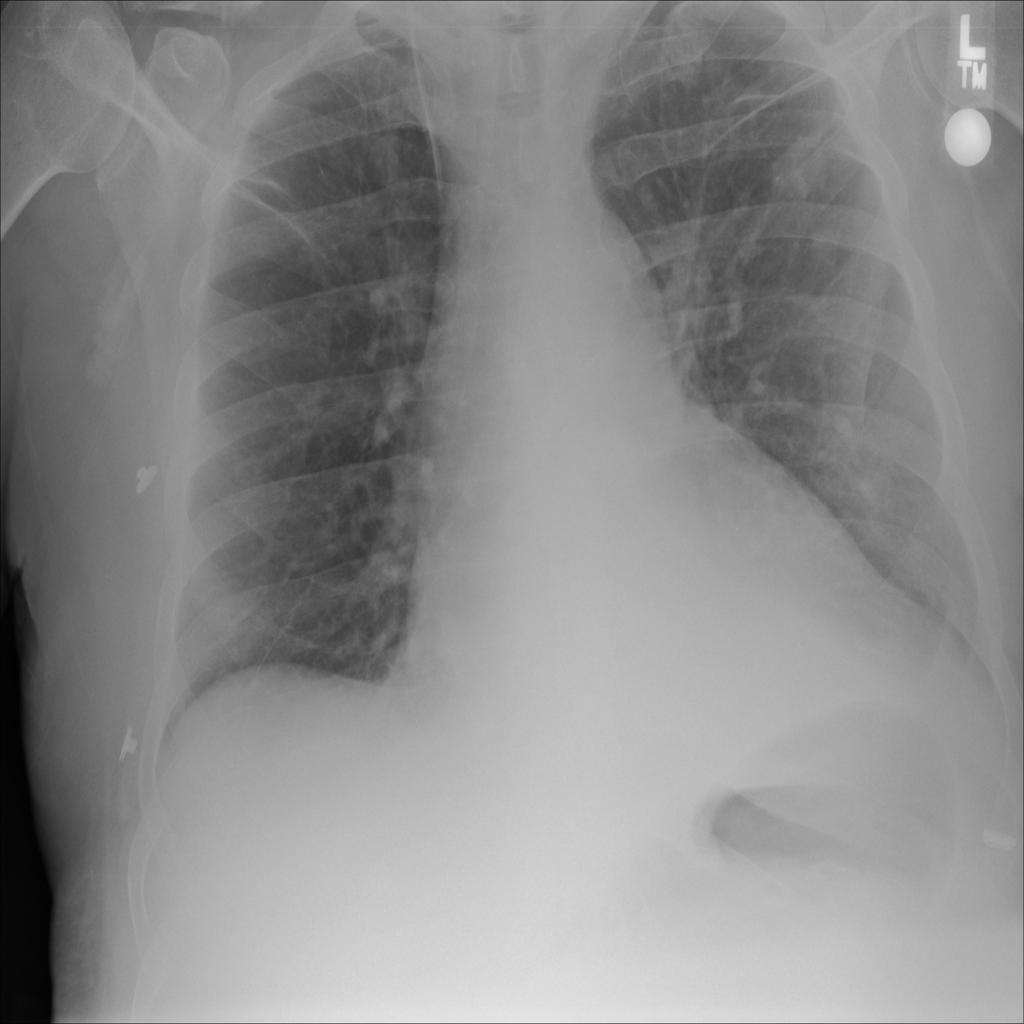nodule: (762, 122, 832, 211), (797, 207, 859, 280)
